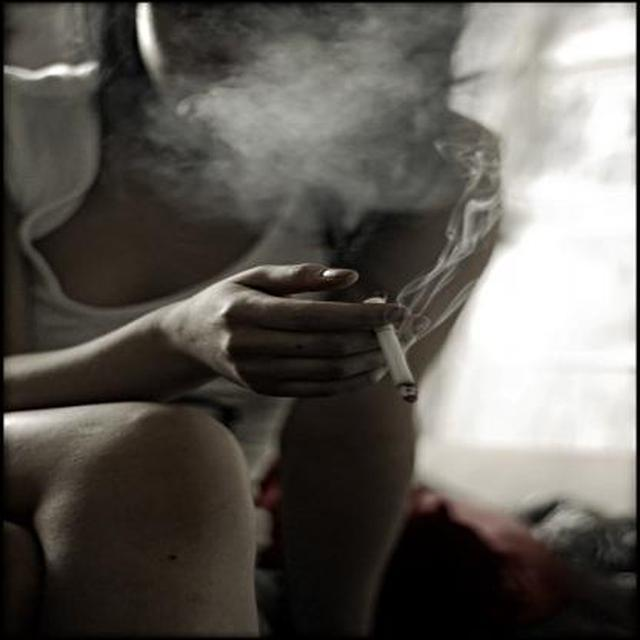smoking: (363, 290, 437, 410)
